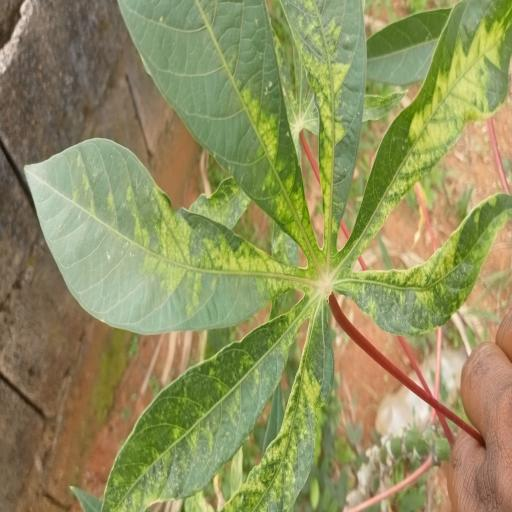Cassava_Mosaic: (21, 0, 443, 512)
